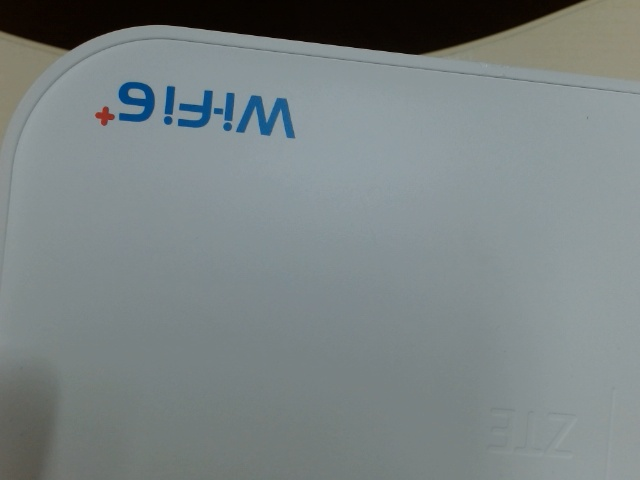AJ_ZTEWIFI6Plus: (84, 75, 300, 146)
